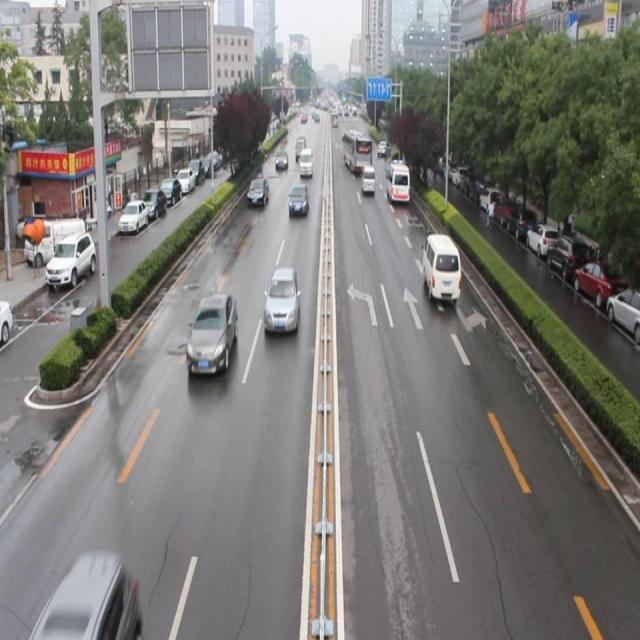car: (186, 294, 239, 377), (263, 268, 302, 336), (246, 175, 269, 209), (287, 185, 308, 213)
truck: (422, 234, 460, 305), (384, 157, 409, 203), (360, 161, 374, 196), (298, 147, 314, 177)
